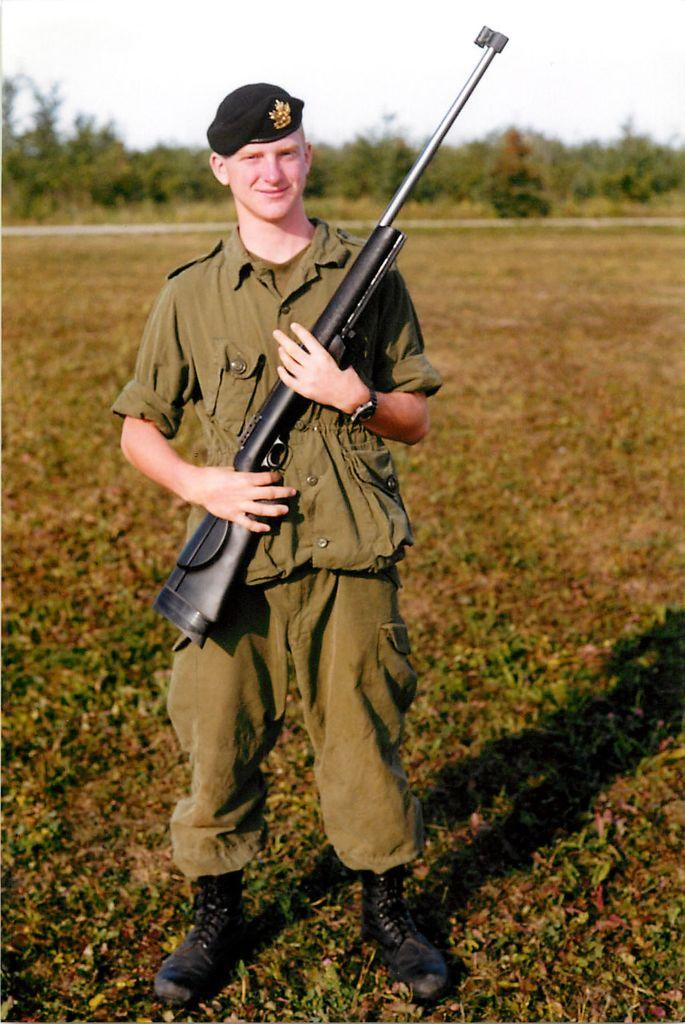Shotgun: (156, 22, 508, 650)
